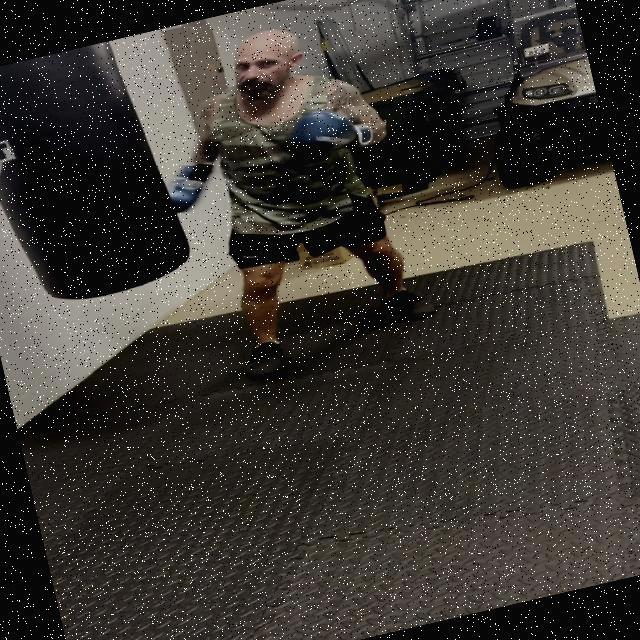punch: (99, 1, 401, 236)
